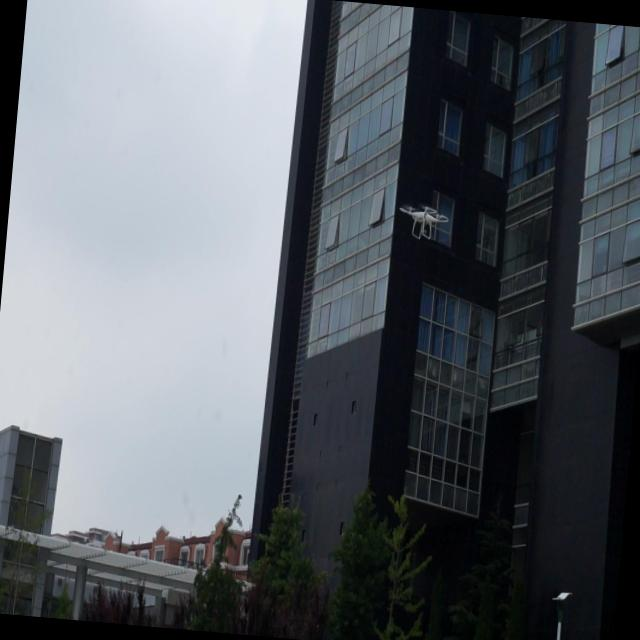drone: (392, 196, 452, 249)
